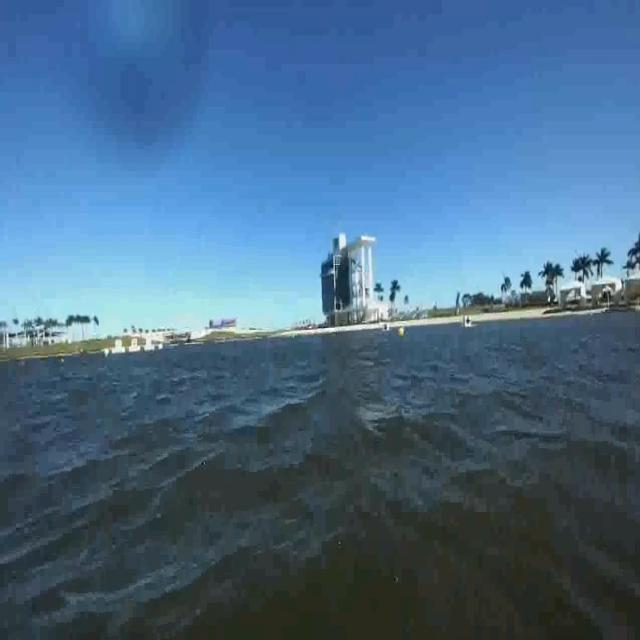yellow-buoy: (398, 325, 404, 338)
